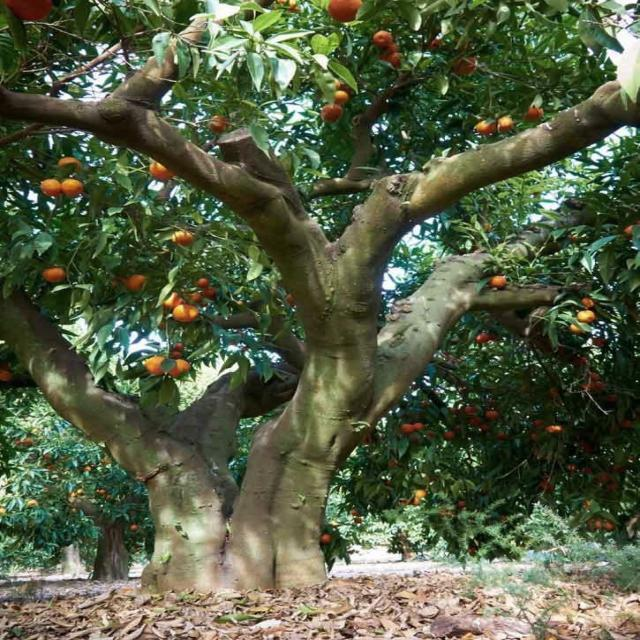Jeruk Sudah Matang: (325, 0, 367, 24), (144, 356, 170, 378), (172, 304, 200, 324), (40, 266, 68, 286), (39, 178, 63, 198), (169, 231, 197, 247), (61, 178, 85, 196), (172, 358, 192, 379), (576, 309, 597, 324), (489, 275, 509, 288)
